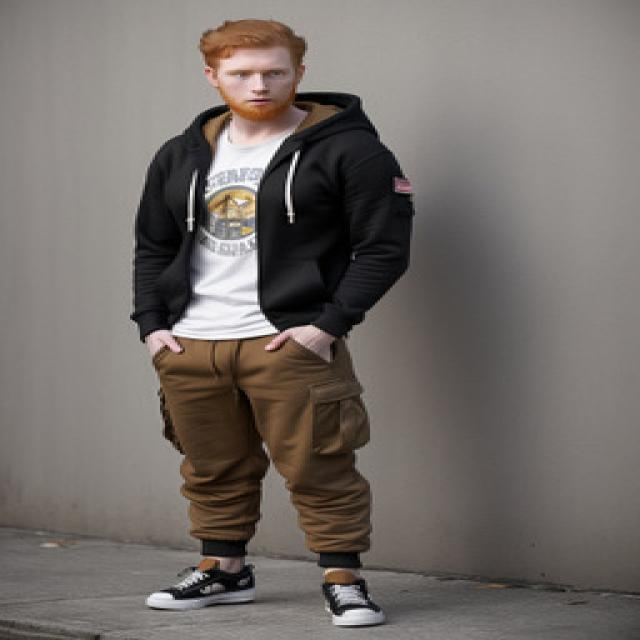Ai human 2: (103, 9, 443, 637)
